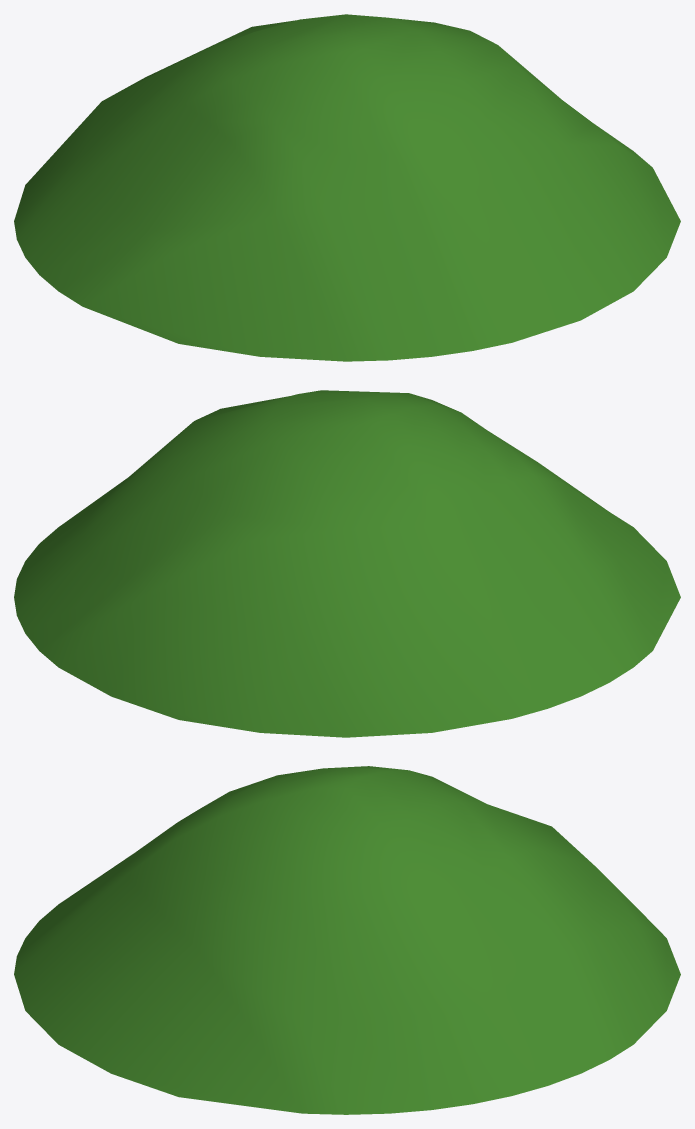
File: Bush1.fbx
The picture shows the model from 3 angles, top to bottom: view 1: azimuth 30°, elevation 25°; view 2: azimuth 150°, elevation 25°; view 3: azimuth 270°, elevation 25°; orthographic projection.
Parts seen in each view (by area): view 1: pDisc2; view 2: pDisc2; view 3: pDisc2.
Boxes of the visible parts, x1,y1,x2,y2 form: pDisc2: (14, 14, 680, 361); pDisc2: (14, 390, 680, 737); pDisc2: (14, 766, 680, 1114).
Size of the model in its own units: 3.27 by 1.01 by 3.28.
